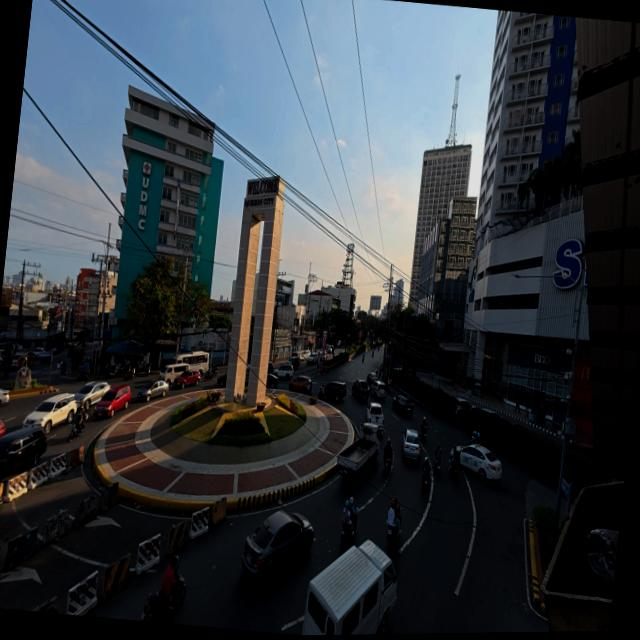bus: (171, 351, 209, 376)
car: (242, 511, 314, 586), (0, 426, 46, 483), (23, 394, 78, 434), (459, 445, 502, 480), (94, 384, 131, 419), (75, 381, 109, 409), (137, 380, 169, 402), (402, 429, 420, 461), (319, 381, 347, 401), (174, 370, 201, 389), (392, 395, 414, 416), (352, 380, 369, 402), (289, 375, 309, 392), (370, 380, 387, 399), (456, 397, 473, 415), (275, 364, 294, 379), (480, 408, 502, 419), (12, 354, 27, 369), (266, 373, 279, 389), (266, 374, 279, 389), (0, 388, 10, 406), (287, 356, 300, 369), (298, 347, 310, 361), (367, 371, 378, 386), (307, 352, 318, 365), (32, 347, 46, 357), (217, 374, 227, 388), (0, 419, 6, 437), (53, 346, 63, 354), (268, 362, 274, 374)
motorcycle: (142, 591, 173, 622), (341, 508, 357, 547), (387, 510, 401, 549), (68, 421, 84, 442), (136, 361, 152, 376), (122, 365, 136, 382), (421, 472, 431, 495), (384, 452, 393, 471), (107, 365, 120, 378), (450, 461, 458, 476), (203, 369, 213, 381), (434, 458, 441, 474), (78, 370, 89, 380), (421, 427, 427, 441), (211, 365, 218, 377), (60, 362, 66, 375), (305, 384, 312, 395), (361, 353, 364, 362), (372, 350, 374, 357)
trucks: (337, 423, 378, 480), (365, 401, 384, 428)
vans: (303, 541, 396, 635), (159, 364, 188, 385)
